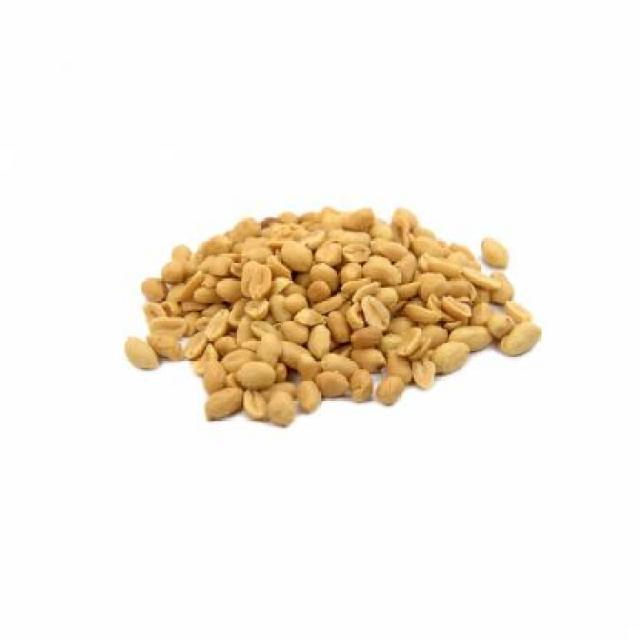Frutta secca: (120, 204, 542, 418)
